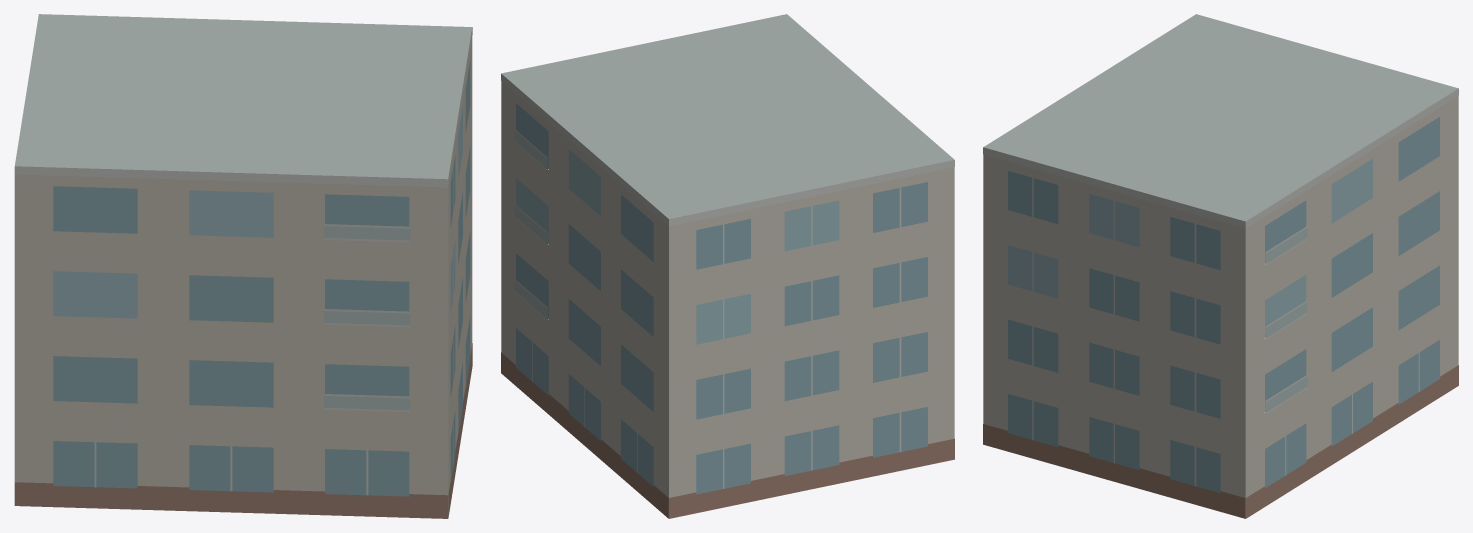
The model's file is survey-upis-32718454.glb.
3 renders of one model, left to right at view 1: azimuth 30°, elevation 25°; view 2: azimuth 150°, elevation 25°; view 3: azimuth 270°, elevation 25°, orthographic. The views are drawn at different scales.
Parts seen in each view (by area): view 1: survey-upis-32718454.tmp; view 2: survey-upis-32718454.tmp; view 3: survey-upis-32718454.tmp.
Boxes of the visible parts, x1=… form: survey-upis-32718454.tmp: x1=14, y1=14, x2=472, y2=518; survey-upis-32718454.tmp: x1=501, y1=14, x2=954, y2=518; survey-upis-32718454.tmp: x1=983, y1=14, x2=1458, y2=518.
Size of the model in its own units: 15.13 by 10.1 by 14.65.
